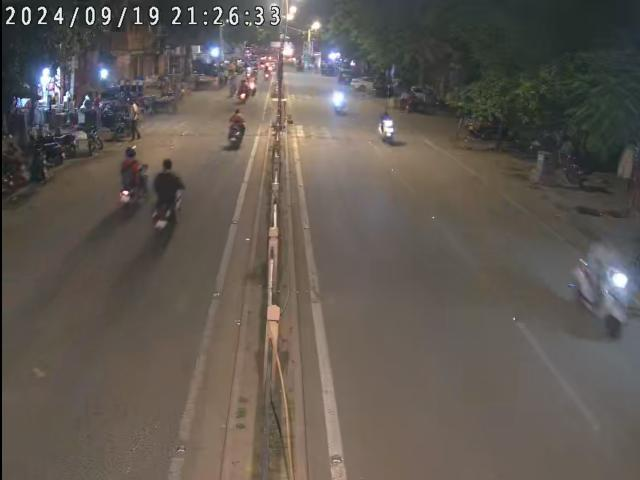motorbike-rider: (120, 144, 151, 216)
scooty-rider: (573, 234, 632, 342), (148, 158, 182, 234), (230, 108, 244, 148), (375, 110, 393, 140)
